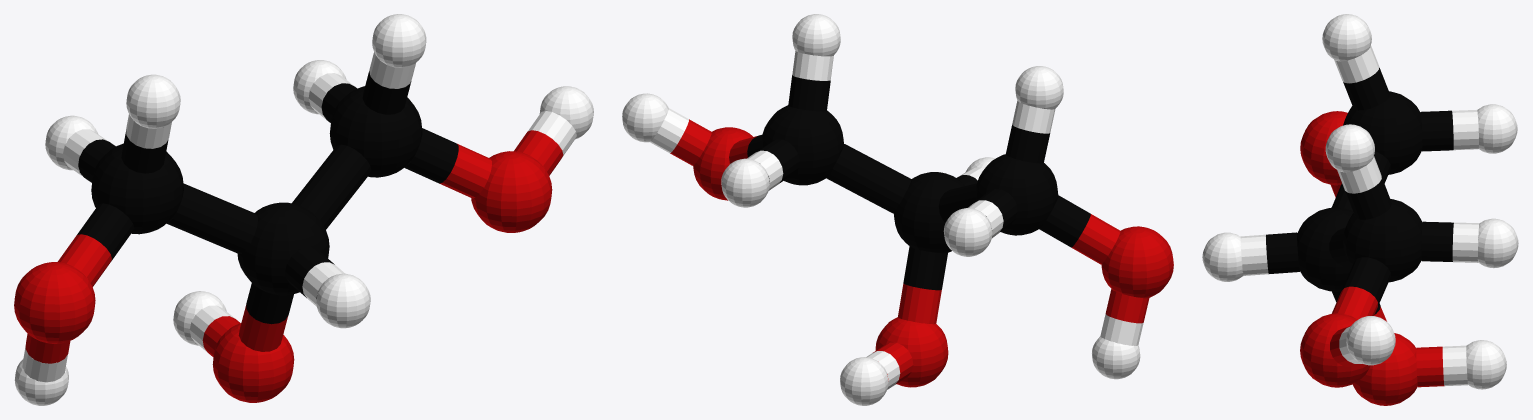
File: Glyceritol.obj
The picture shows the model from 3 angles, left to right: view 1: azimuth 30°, elevation 25°; view 2: azimuth 150°, elevation 25°; view 3: azimuth 270°, elevation 25°; orthographic projection. The views are drawn at different scales.
Parts seen in each view (by area): view 1: Shape_Sphere.013_Shape_Sphere.014, Shape_Sphere.017_Shape_Sphere.018, Shape_Sphere.016_Shape_Sphere.017, Shape_Sphere.015_Shape_Sphere.016, Shape_Sphere.014_Shape_Sphere.015, Shape_Sphere.012_Shape_Sphere.013, Shape_Cylinder.032_Shape_Cylinder.077, Shape_Cylinder.033_Shape_Cylinder.078, Shape_Sphere.018_Shape_Sphere.019, Shape_Sphere.020_Shape_Sphere.021, Shape_Sphere.021_Shape_Sphere.022, Shape_Cylinder.029_Shape_Cylinder.074 (+26 smaller); view 2: Shape_Sphere.017_Shape_Sphere.018, Shape_Sphere.013_Shape_Sphere.014, Shape_Sphere.016_Shape_Sphere.017, Shape_Sphere.015_Shape_Sphere.016, Shape_Cylinder.033_Shape_Cylinder.078, Shape_Sphere.012_Shape_Sphere.013, Shape_Sphere.014_Shape_Sphere.015, Shape_Sphere.019_Shape_Sphere.020, Shape_Sphere.022_Shape_Sphere.023, Shape_Sphere.023_Shape_Sphere.024, Shape_Sphere.020_Shape_Sphere.021, Shape_Sphere.021_Shape_Sphere.022 (+21 smaller); view 3: Shape_Sphere.017_Shape_Sphere.018, Shape_Sphere.016_Shape_Sphere.017, Shape_Sphere.015_Shape_Sphere.016, Shape_Sphere.014_Shape_Sphere.015, Shape_Sphere.012_Shape_Sphere.013, Shape_Sphere.013_Shape_Sphere.014, Shape_Sphere.025_Shape_Sphere, Shape_Sphere.021_Shape_Sphere.022, Shape_Sphere.020_Shape_Sphere.021, Shape_Sphere.022_Shape_Sphere.023, Shape_Sphere.023_Shape_Sphere.024, Shape_Sphere.018_Shape_Sphere.019 (+19 smaller).
Part boxes in pixels (box(x1,y1,x2,y2)): Shape_Sphere.013_Shape_Sphere.014: box(14, 262, 95, 343); Shape_Sphere.017_Shape_Sphere.018: box(329, 86, 421, 177); Shape_Sphere.016_Shape_Sphere.017: box(91, 143, 183, 234); Shape_Sphere.015_Shape_Sphere.016: box(237, 202, 329, 295); Shape_Sphere.014_Shape_Sphere.015: box(471, 151, 552, 232); Shape_Sphere.012_Shape_Sphere.013: box(212, 323, 294, 402); Shape_Cylinder.032_Shape_Cylinder.077: box(167, 183, 257, 253); Shape_Cylinder.033_Shape_Cylinder.078: box(292, 144, 371, 229); Shape_Sphere.018_Shape_Sphere.019: box(316, 273, 370, 328); Shape_Sphere.020_Shape_Sphere.021: box(126, 74, 180, 128); Shape_Sphere.021_Shape_Sphere.022: box(372, 14, 426, 67); Shape_Cylinder.029_Shape_Cylinder.074: box(404, 128, 458, 183); Shape_Sphere.017_Shape_Sphere.018: box(761, 105, 844, 185); Shape_Sphere.013_Shape_Sphere.014: box(1101, 226, 1173, 298); Shape_Sphere.016_Shape_Sphere.017: box(976, 154, 1058, 235); Shape_Sphere.015_Shape_Sphere.016: box(893, 172, 964, 253); Shape_Cylinder.033_Shape_Cylinder.078: box(826, 144, 911, 213); Shape_Sphere.012_Shape_Sphere.013: box(875, 317, 948, 387); Shape_Sphere.014_Shape_Sphere.015: box(693, 127, 752, 200); Shape_Sphere.019_Shape_Sphere.020: box(943, 208, 992, 256); Shape_Sphere.022_Shape_Sphere.023: box(721, 158, 769, 207); Shape_Sphere.023_Shape_Sphere.024: box(840, 357, 888, 405); Shape_Sphere.020_Shape_Sphere.021: box(1015, 66, 1063, 109); Shape_Sphere.021_Shape_Sphere.022: box(792, 14, 840, 56); Shape_Sphere.017_Shape_Sphere.018: box(1343, 199, 1422, 282); Shape_Sphere.016_Shape_Sphere.017: box(1343, 91, 1422, 174); Shape_Sphere.015_Shape_Sphere.016: box(1297, 207, 1353, 291); Shape_Sphere.014_Shape_Sphere.015: box(1300, 313, 1370, 387); Shape_Sphere.012_Shape_Sphere.013: box(1352, 333, 1417, 405); Shape_Sphere.013_Shape_Sphere.014: box(1300, 111, 1347, 185); Shape_Sphere.025_Shape_Sphere: box(1346, 316, 1395, 365); Shape_Sphere.021_Shape_Sphere.022: box(1325, 124, 1374, 172); Shape_Sphere.020_Shape_Sphere.021: box(1322, 14, 1371, 61); Shape_Sphere.022_Shape_Sphere.023: box(1477, 218, 1518, 268); Shape_Sphere.023_Shape_Sphere.024: box(1466, 340, 1506, 389); Shape_Sphere.018_Shape_Sphere.019: box(1202, 232, 1243, 281).
Bounding box in the file's own units: 0.8593 × 0.5114 × 0.4405.
